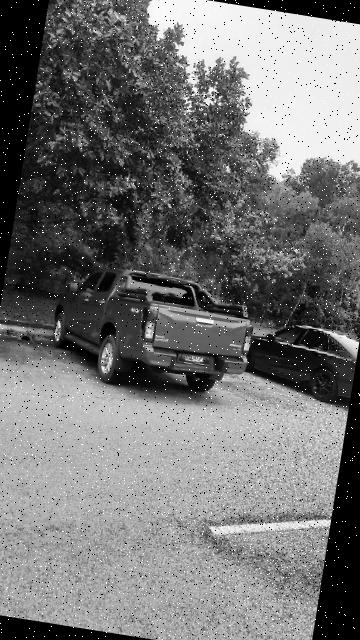License_Plate: (176, 352, 214, 370)
car: (45, 259, 262, 406), (249, 317, 360, 407)
